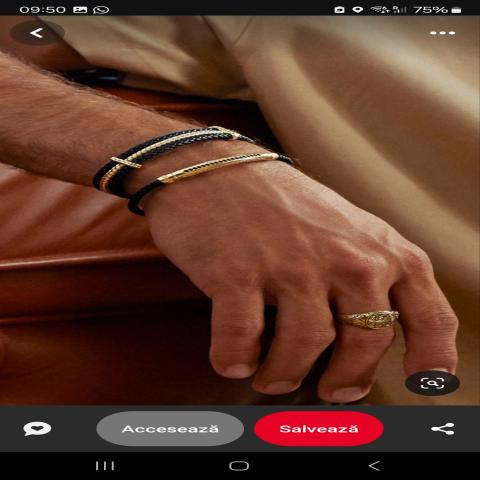hands: (89, 131, 480, 403)
